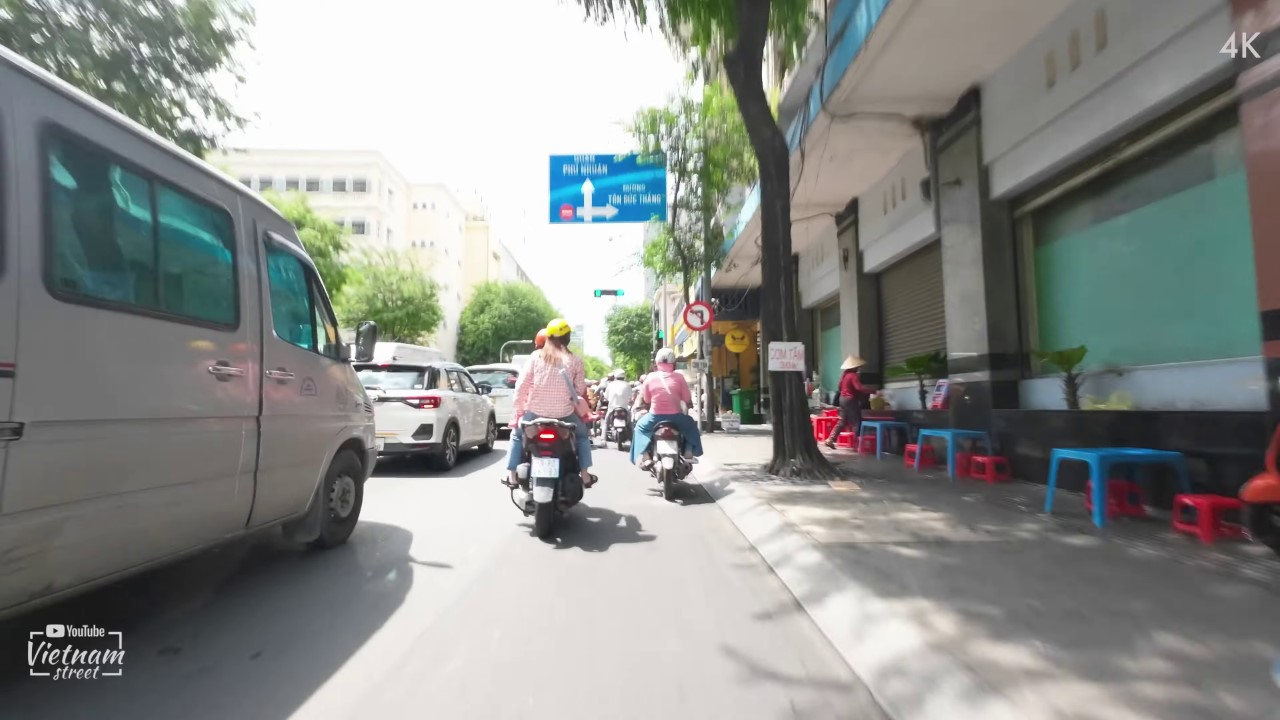cam_re_trai: (681, 302, 715, 333)
